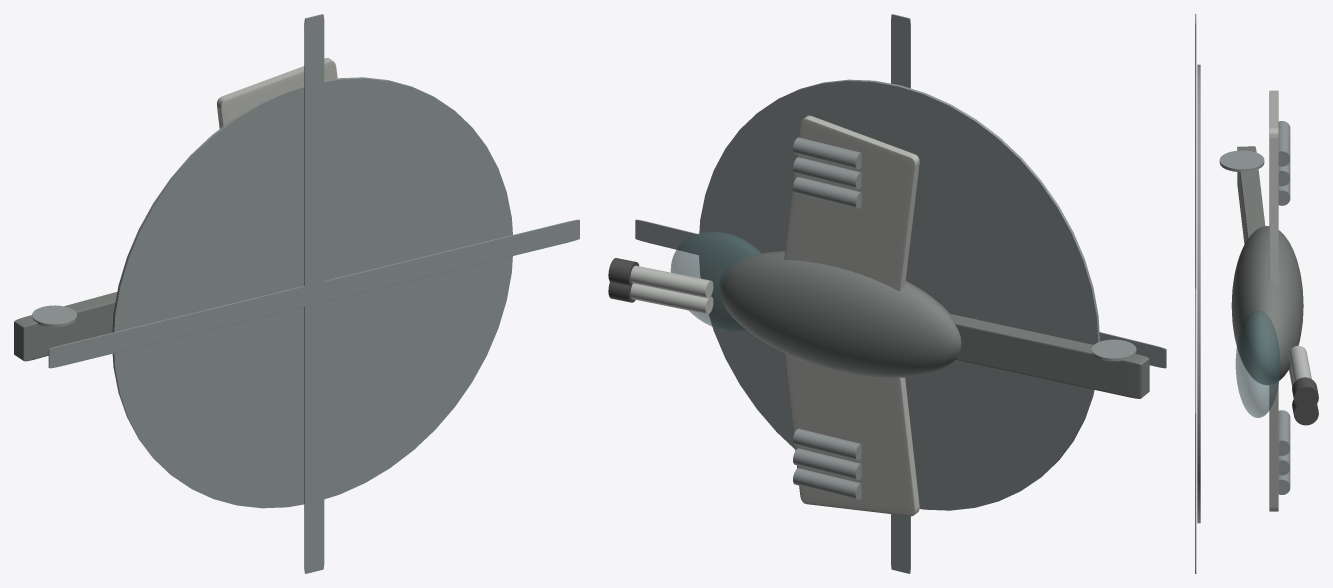
File: c-u10-attack-helicopter-lod1.glb
The picture shows the model from 3 angles, left to right: view 1: azimuth 30°, elevation 25°; view 2: azimuth 150°, elevation 25°; view 3: azimuth 270°, elevation 25°; orthographic projection.
Visible parts, largest first — view 1: rotor_main, rotor_blade_2, rotor_blade_1, rotor_blade_3, rotor_blade_0, tail_boom, stub_wing_1, rotor_tail; view 2: rotor_main, helicopter_fuselage, stub_wing_1, stub_wing_-1, tail_boom, cockpit, chin_gun_barrel_1, rotor_blade_1, rotor_blade_0, chin_gun_barrel_0, helo_missile_-1_tube_2, helo_missile_-1_tube_3 (+7 smaller); view 3: helicopter_fuselage, cockpit, stub_wing_1, rotor_main, tail_boom, stub_wing_-1, rotor_tail, chin_gun_muzzle_1, chin_gun_barrel_1, helo_missile_1_tube_3, helo_missile_-1_tube_3, rotor_blade_1 (+7 smaller).
Boxes of the visible parts, bbox=[...] form: rotor_main: bbox=[112, 77, 512, 508]; rotor_blade_2: bbox=[48, 278, 339, 368]; rotor_blade_1: bbox=[304, 14, 324, 322]; rotor_blade_3: bbox=[304, 266, 324, 573]; rotor_blade_0: bbox=[289, 219, 579, 310]; tail_boom: bbox=[14, 292, 117, 361]; stub_wing_1: bbox=[217, 58, 337, 128]; rotor_tail: bbox=[32, 305, 76, 327]; rotor_main: bbox=[698, 79, 1099, 510]; helicopter_fuselage: bbox=[719, 251, 961, 377]; stub_wing_1: bbox=[784, 115, 919, 291]; stub_wing_-1: bbox=[784, 353, 919, 516]; tail_boom: bbox=[950, 314, 1149, 398]; cockpit: bbox=[670, 231, 761, 331]; chin_gun_barrel_1: bbox=[630, 265, 713, 298]; rotor_blade_1: bbox=[891, 14, 910, 88]; rotor_blade_0: bbox=[635, 219, 698, 254]; chin_gun_barrel_0: bbox=[630, 283, 713, 314]; helo_missile_-1_tube_2: bbox=[793, 448, 861, 480]; helo_missile_-1_tube_3: bbox=[793, 428, 861, 460]; helicopter_fuselage: bbox=[1231, 226, 1303, 384]; cockpit: bbox=[1235, 310, 1280, 417]; stub_wing_1: bbox=[1269, 90, 1278, 283]; rotor_main: bbox=[1197, 64, 1200, 523]; tail_boom: bbox=[1237, 146, 1265, 244]; stub_wing_-1: bbox=[1269, 382, 1278, 511]; rotor_tail: bbox=[1219, 150, 1264, 171]; chin_gun_muzzle_1: bbox=[1292, 377, 1318, 409]; chin_gun_barrel_1: bbox=[1289, 345, 1311, 381]; helo_missile_1_tube_3: bbox=[1278, 121, 1290, 166]; helo_missile_-1_tube_3: bbox=[1278, 410, 1290, 455]; rotor_blade_1: bbox=[1195, 14, 1196, 272].
Size of what is drawn, in the model's own units: 15.77 by 15.62 by 3.18.
